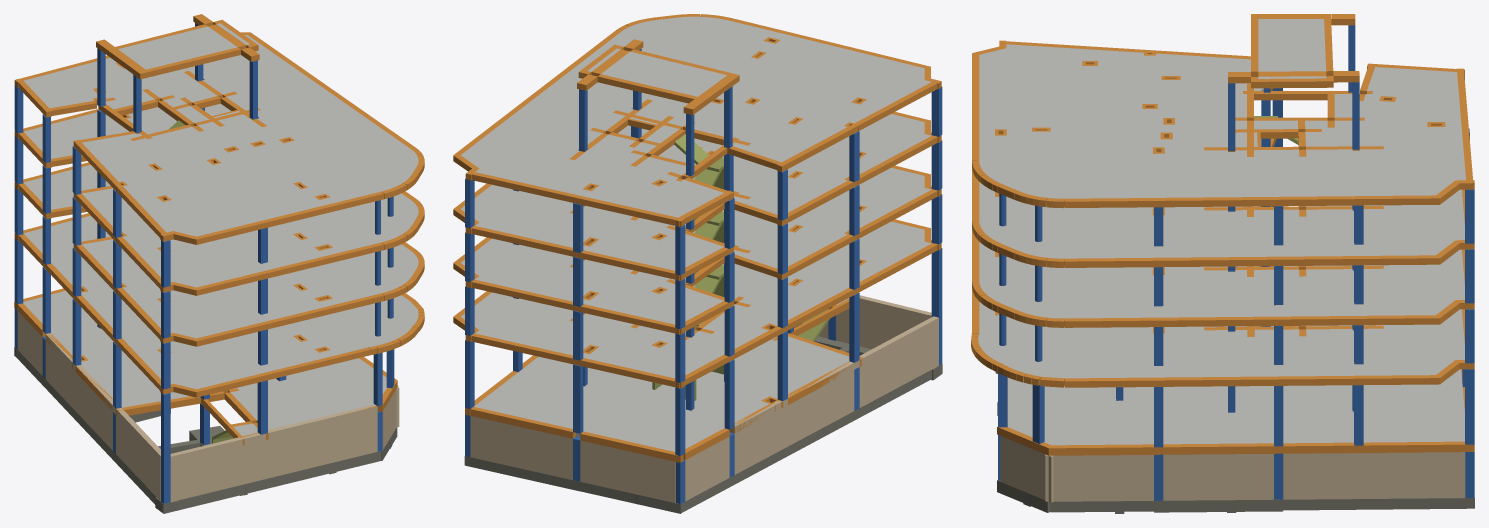
Rendered from ESC_ReticularPorex_maqueta.glb.
3 renders of one model, left to right at view 1: azimuth 30°, elevation 25°; view 2: azimuth 150°, elevation 25°; view 3: azimuth 270°, elevation 25°, orthographic. The views are drawn at different scales.
Parts seen in each view (by area): view 1: IfcSlab, IfcBeam, IfcWallStandardCase, IfcColumn, IfcFooting; view 2: IfcSlab, IfcBeam, IfcWallStandardCase, IfcColumn, IfcFooting, IfcStair; view 3: IfcSlab, IfcBeam, IfcWallStandardCase, IfcColumn, IfcFooting.
Boxes of the visible parts, bbox=[...] form: IfcSlab: bbox=[23, 23, 418, 436]; IfcBeam: bbox=[14, 14, 424, 445]; IfcWallStandardCase: bbox=[17, 311, 399, 501]; IfcColumn: bbox=[14, 23, 394, 503]; IfcFooting: bbox=[14, 346, 397, 513]; IfcSlab: bbox=[460, 16, 931, 451]; IfcBeam: bbox=[453, 14, 941, 462]; IfcWallStandardCase: bbox=[470, 295, 938, 502]; IfcColumn: bbox=[465, 49, 942, 503]; IfcFooting: bbox=[464, 336, 942, 513]; IfcStair: bbox=[652, 134, 829, 401]; IfcSlab: bbox=[978, 19, 1465, 445]; IfcBeam: bbox=[971, 14, 1474, 455]; IfcWallStandardCase: bbox=[1000, 436, 1465, 502]; IfcColumn: bbox=[998, 25, 1474, 500]; IfcFooting: bbox=[995, 372, 1474, 513].
Size of the model in its own units: 0.3239 by 0.384 by 0.4269.
